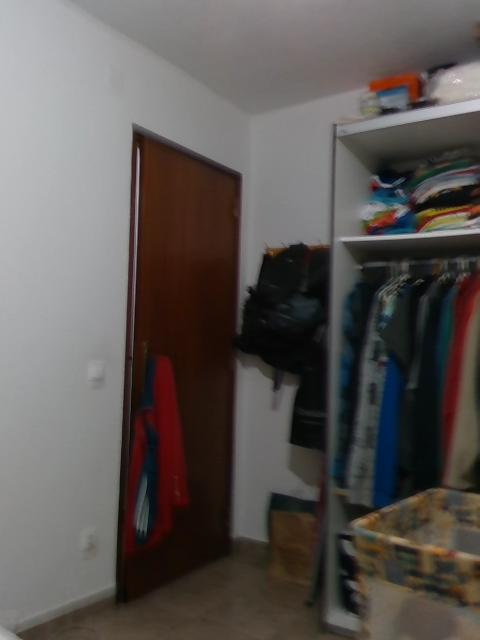door: (112, 128, 243, 610)
